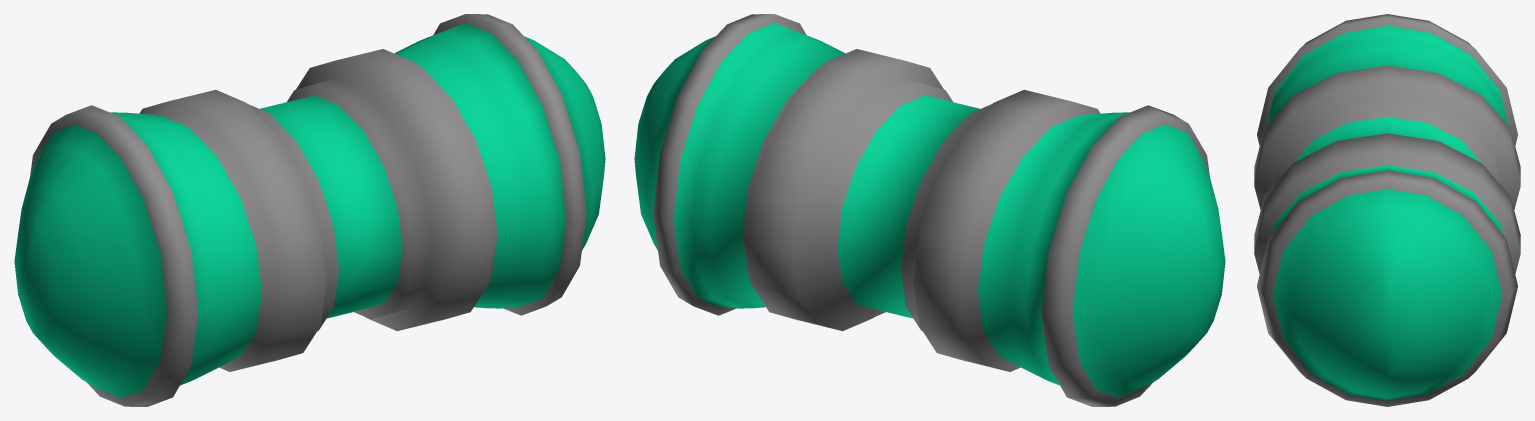
The model's file is HealthCapsule.fbx.
The picture shows the model from 3 angles, left to right: view 1: azimuth 30°, elevation 25°; view 2: azimuth 150°, elevation 25°; view 3: azimuth 270°, elevation 25°; orthographic projection. The views are drawn at different scales.
Visible parts, largest first — view 1: Cylinder; view 2: Cylinder; view 3: Cylinder.
Part boxes in pixels (box(x1,y1,x2,y2)): Cylinder: box(14, 14, 605, 406); Cylinder: box(634, 14, 1225, 406); Cylinder: box(1254, 14, 1520, 406).
Bounding box in the file's own units: 254 × 117 × 122.
